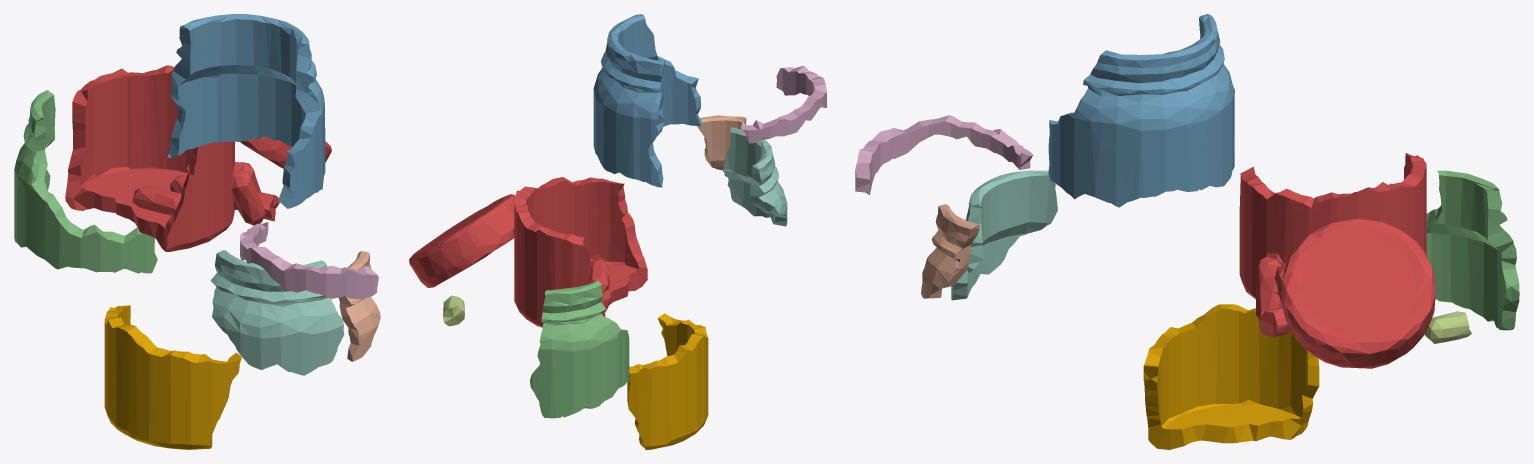
Rendered from fractured_1_8pcs_transformed.glb.
The picture shows the model from 3 angles, left to right: view 1: azimuth 30°, elevation 25°; view 2: azimuth 150°, elevation 25°; view 3: azimuth 270°, elevation 25°; orthographic projection. The views are drawn at different scales.
Visible parts, largest first — view 1: piece_1.obj, piece_2.obj, piece_0.obj, piece_4.obj, piece_3.obj, piece_6.obj, piece_7.obj; view 2: piece_1.obj, piece_2.obj, piece_3.obj, piece_0.obj, piece_4.obj, piece_6.obj, piece_7.obj, piece_5.obj; view 3: piece_1.obj, piece_2.obj, piece_0.obj, piece_3.obj, piece_4.obj, piece_6.obj, piece_7.obj, piece_5.obj.
Boxes of the visible parts, box(x1,y1,x2,y2) form: piece_1.obj: box(65, 65, 331, 251); piece_2.obj: box(167, 14, 325, 208); piece_0.obj: box(104, 305, 241, 449); piece_4.obj: box(210, 250, 344, 375); piece_3.obj: box(14, 90, 157, 273); piece_6.obj: box(240, 222, 378, 298); piece_7.obj: box(339, 251, 380, 361); piece_1.obj: box(409, 177, 647, 327); piece_2.obj: box(593, 14, 703, 187); piece_3.obj: box(530, 280, 629, 418); piece_0.obj: box(627, 313, 708, 449); piece_4.obj: box(723, 127, 787, 226); piece_6.obj: box(741, 66, 826, 143); piece_7.obj: box(697, 115, 746, 179); piece_5.obj: box(443, 295, 464, 326); piece_1.obj: box(1239, 153, 1435, 368); piece_2.obj: box(1048, 14, 1234, 207); piece_0.obj: box(1143, 304, 1319, 449); piece_3.obj: box(1426, 170, 1519, 330); piece_4.obj: box(951, 170, 1057, 300); piece_6.obj: box(855, 115, 1033, 194); piece_7.obj: box(921, 204, 979, 298); piece_5.obj: box(1425, 311, 1471, 343).
Size of the model in its own units: 1 by 1.5 by 2.07.
